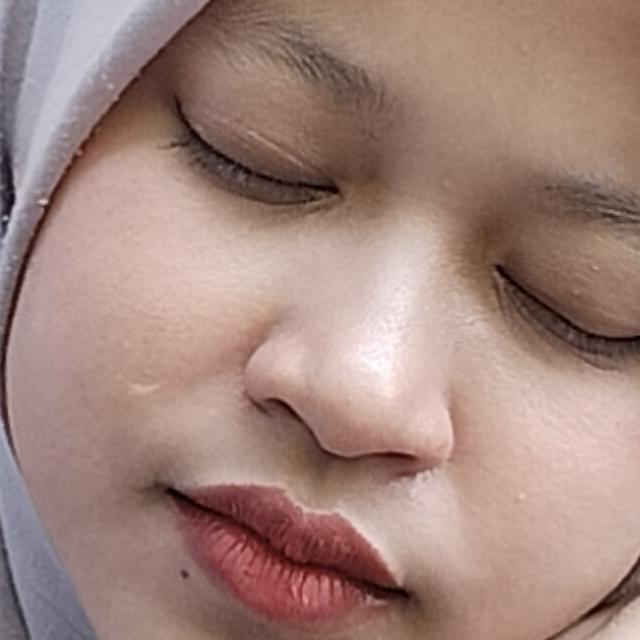tidur: (16, 178, 640, 640)
